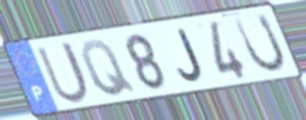4: (208, 18, 248, 81)
8: (124, 32, 168, 92)
J: (176, 27, 205, 84)
Q: (78, 38, 138, 99)
U: (34, 39, 91, 106), (231, 11, 288, 75)
